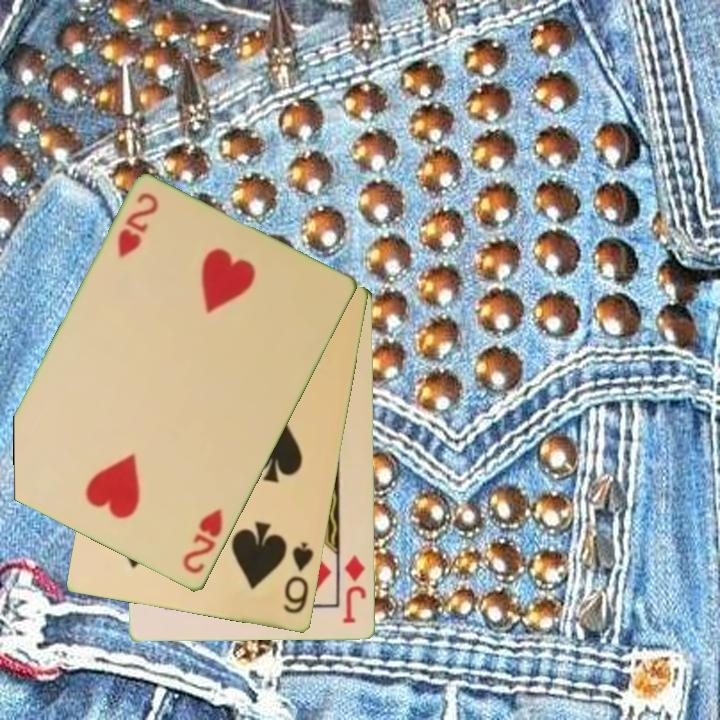2h: (114, 189, 162, 262), (179, 505, 226, 578)
6s: (280, 539, 317, 617)
Jd: (339, 552, 369, 627)
